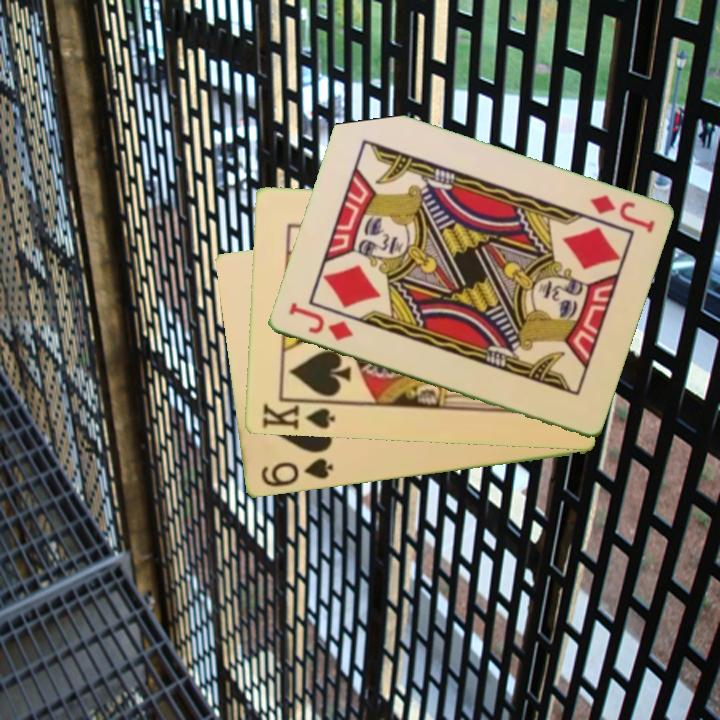6s: (257, 455, 336, 491)
Jd: (284, 298, 356, 344), (585, 191, 657, 236)
Ks: (258, 401, 338, 433)
